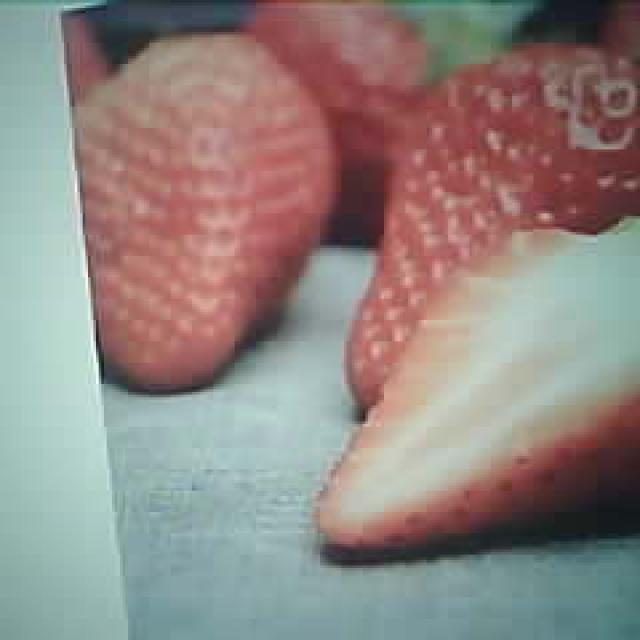ripe: (66, 36, 337, 396)
